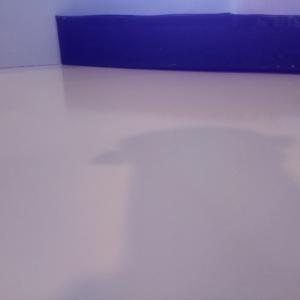zone: (55, 13, 299, 73)
